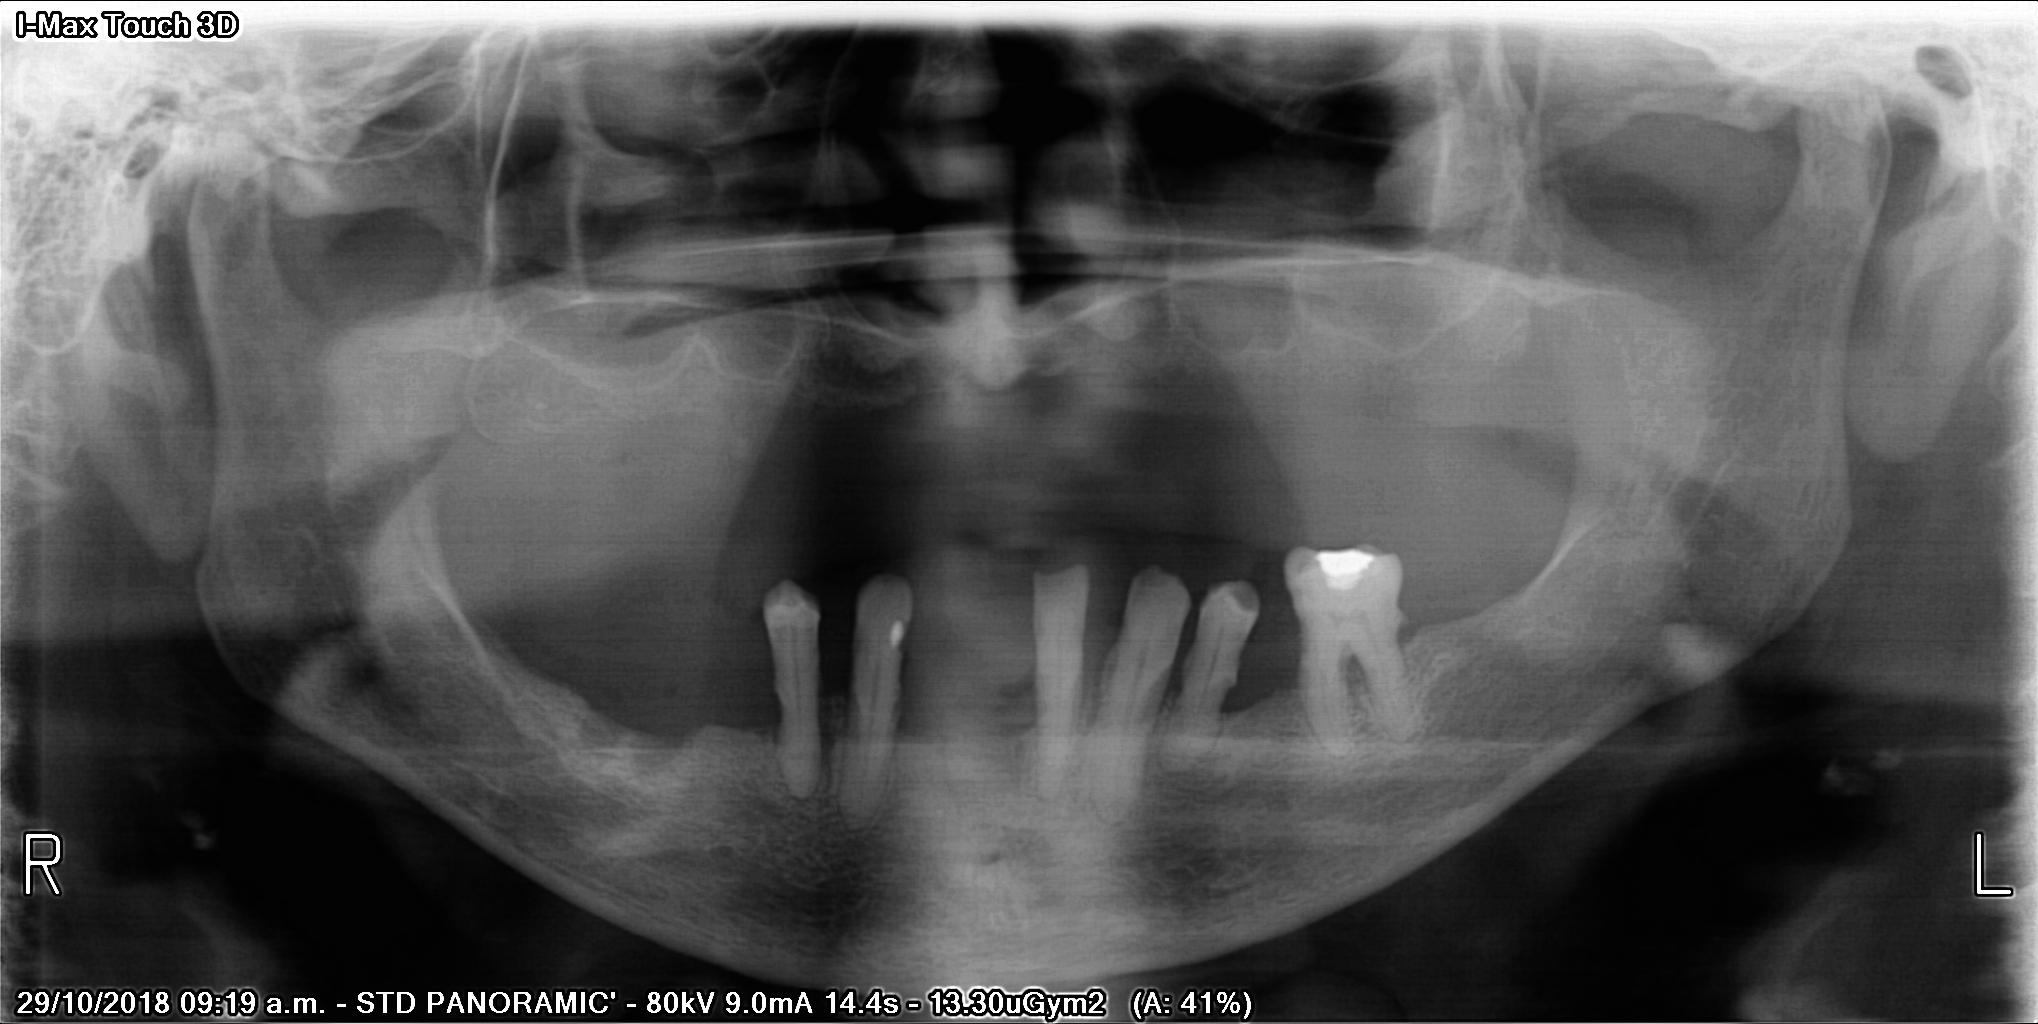Çürük: (1313, 537, 1377, 596), (885, 616, 910, 650)
